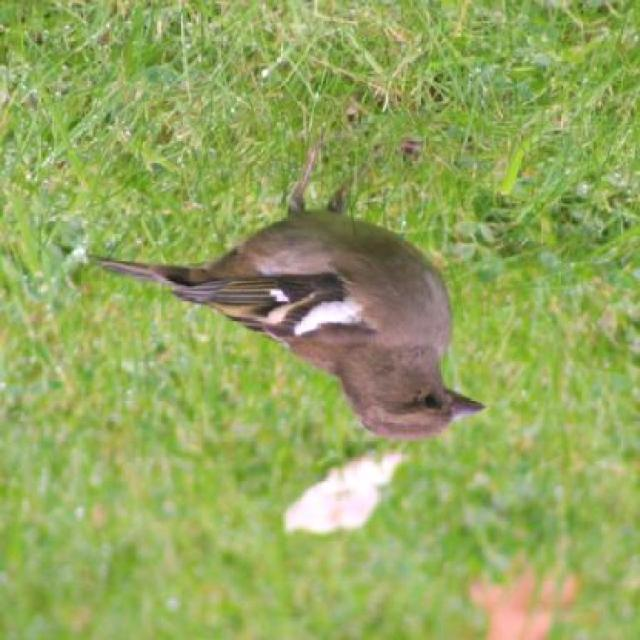Bird: (85, 138, 505, 500)
